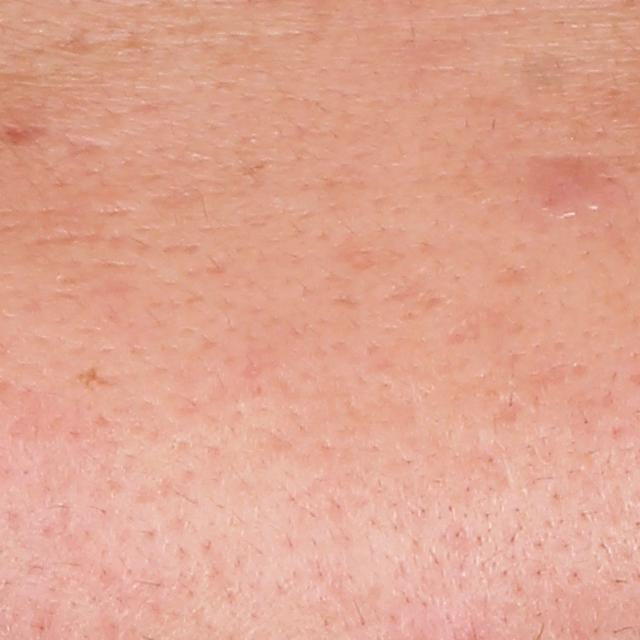atrophic_scar: (439, 302, 526, 350), (382, 276, 449, 315), (491, 394, 524, 430)
